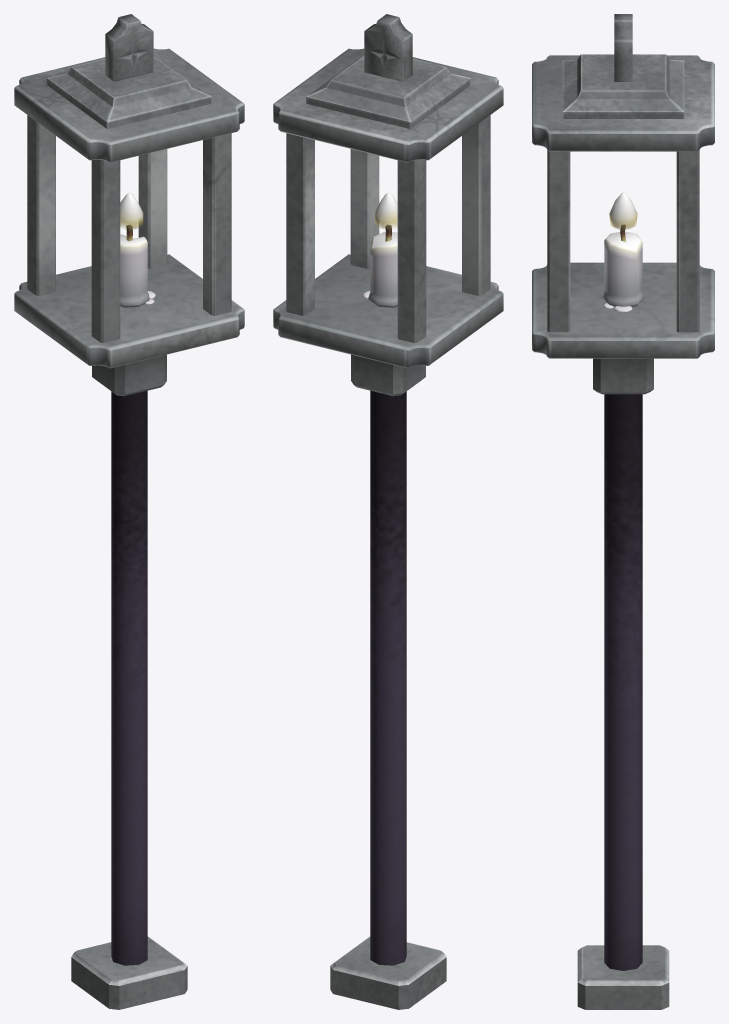
Rendered from Lantern.glb.
3 views of the same model, side by side, from view 1: azimuth 30°, elevation 25°; view 2: azimuth 150°, elevation 25°; view 3: azimuth 270°, elevation 25° (orthographic).
Visible parts, largest first — view 1: Lantern; view 2: Lantern; view 3: Lantern.
Boxes of the visible parts, bbox=[...] form: Lantern: bbox=[14, 14, 244, 1009]; Lantern: bbox=[273, 14, 503, 1009]; Lantern: bbox=[532, 14, 714, 1009].
Bounding box in the file's own units: 0.2401 × 1.41 × 0.24.
Materials: 1 (1 with a texture image).
